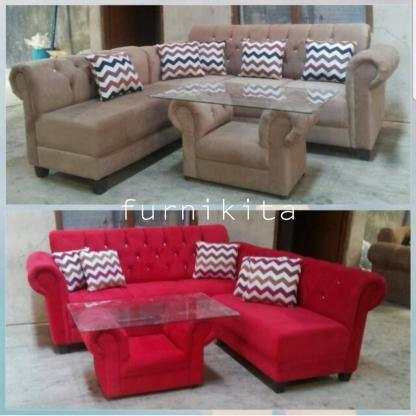meja: (161, 77, 333, 200), (61, 303, 226, 393)
sova: (12, 23, 398, 180), (31, 226, 366, 392)
